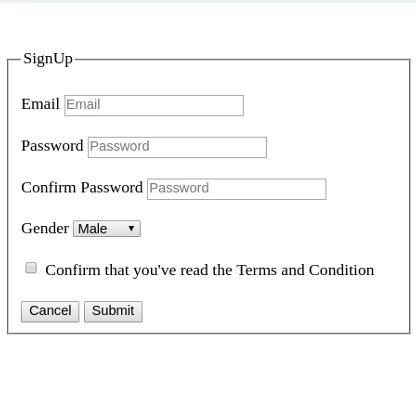button: (18, 299, 81, 323), (81, 300, 143, 323)
checkbox: (25, 261, 41, 276)
checkbox_with_label: (21, 258, 373, 279)
field: (62, 92, 246, 119), (143, 178, 329, 203), (85, 135, 269, 159), (72, 219, 143, 240)
field_with_label: (21, 175, 332, 205), (20, 132, 271, 161), (21, 90, 248, 121), (20, 217, 146, 242)
